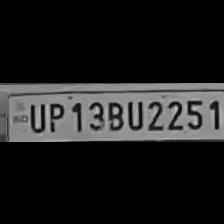1: (66, 98, 84, 132), (206, 96, 222, 128)
2: (144, 97, 164, 131), (164, 96, 182, 130)
3: (86, 97, 104, 131)
5: (183, 96, 203, 128)
B: (105, 98, 125, 130)
P: (46, 98, 64, 132)
U: (24, 100, 46, 132), (124, 96, 144, 130)
